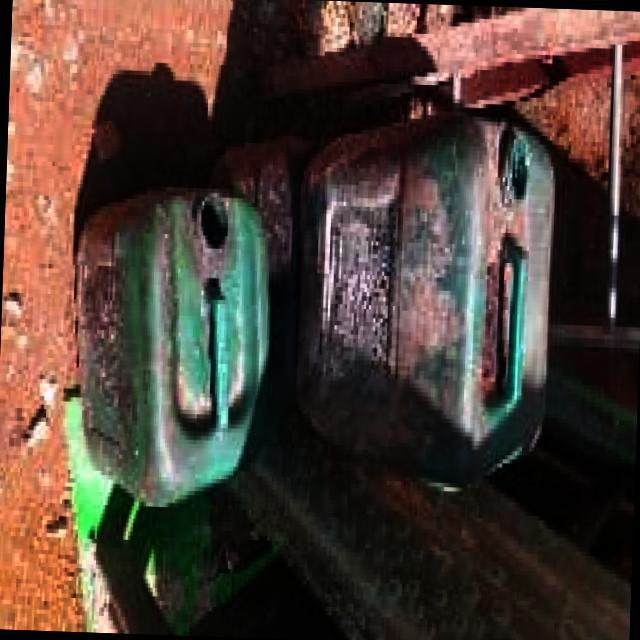HDPE Plastic: (290, 114, 562, 498), (64, 185, 278, 508)
